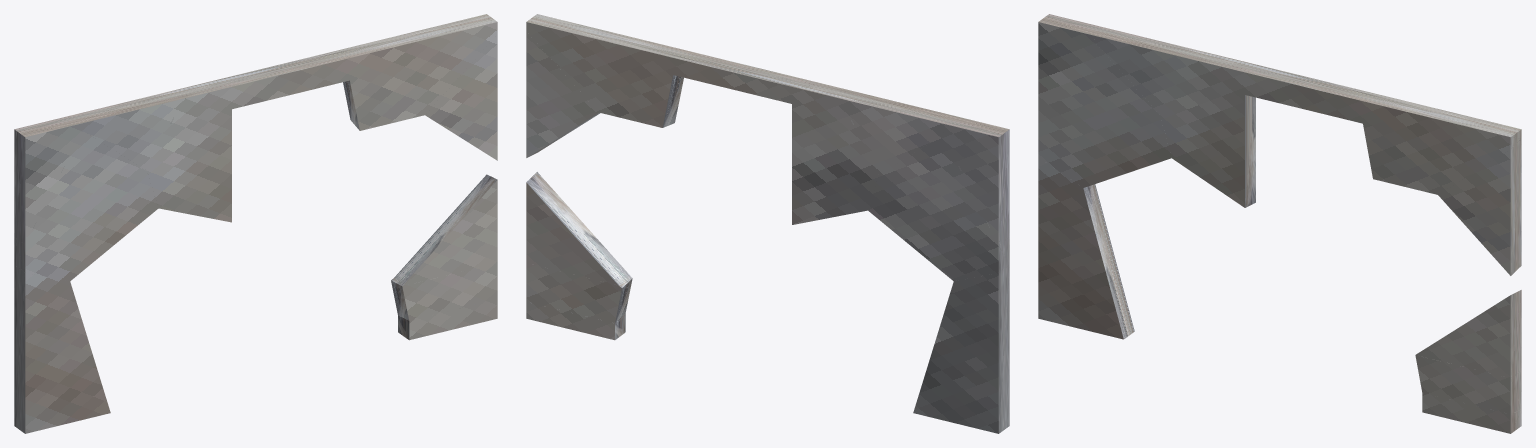
Rendered from Pared-Hoyo.gltf.
The picture shows the model from 3 angles, left to right: view 1: azimuth 30°, elevation 25°; view 2: azimuth 150°, elevation 25°; view 3: azimuth 330°, elevation 25°; orthographic projection.
Visible parts, largest first — view 1: Cube_cell, Cube_cell.012, Cube_cell.005, Cube_cell.013, Cube_cell.004, Cube_cell.014, Cube_cell.002, Cube_cell.006, Cube_cell.010, Cube_cell.001, Cube_cell.009; view 2: Cube_cell.012, Cube_cell, Cube_cell.005, Cube_cell.013, Cube_cell.004, Cube_cell.014, Cube_cell.006, Cube_cell.002, Cube_cell.001, Cube_cell.010, Cube_cell.009; view 3: Cube_cell.012, Cube_cell, Cube_cell.005, Cube_cell.013, Cube_cell.002, Cube_cell.004, Cube_cell.006, Cube_cell.010, Cube_cell.014, Cube_cell.001, Cube_cell.009.
Boxes of the visible parts, bbox=[...] form: Cube_cell: bbox=[14, 130, 158, 281]; Cube_cell.012: bbox=[14, 265, 110, 433]; Cube_cell.005: bbox=[340, 14, 497, 130]; Cube_cell.013: bbox=[147, 81, 231, 222]; Cube_cell.004: bbox=[394, 174, 497, 286]; Cube_cell.014: bbox=[14, 116, 82, 243]; Cube_cell.002: bbox=[425, 34, 497, 160]; Cube_cell.006: bbox=[67, 90, 183, 170]; Cube_cell.010: bbox=[211, 50, 349, 109]; Cube_cell.001: bbox=[391, 263, 497, 320]; Cube_cell.009: bbox=[398, 299, 497, 340]; Cube_cell.012: bbox=[913, 265, 1009, 433]; Cube_cell: bbox=[868, 135, 1009, 281]; Cube_cell.005: bbox=[526, 14, 684, 127]; Cube_cell.013: bbox=[792, 82, 878, 224]; Cube_cell.004: bbox=[526, 172, 632, 285]; Cube_cell.014: bbox=[943, 116, 1009, 245]; Cube_cell.006: bbox=[840, 90, 953, 174]; Cube_cell.002: bbox=[526, 32, 600, 157]; Cube_cell.001: bbox=[526, 263, 632, 323]; Cube_cell.010: bbox=[673, 50, 815, 103]; Cube_cell.009: bbox=[526, 302, 625, 340]; Cube_cell.012: bbox=[1038, 158, 1134, 339]; Cube_cell: bbox=[1038, 43, 1171, 187]; Cube_cell.005: bbox=[1363, 93, 1521, 194]; Cube_cell.013: bbox=[1160, 52, 1255, 207]; Cube_cell.002: bbox=[1438, 139, 1521, 275]; Cube_cell.004: bbox=[1416, 290, 1521, 378]; Cube_cell.006: bbox=[1093, 27, 1206, 114]; Cube_cell.010: bbox=[1232, 62, 1374, 123]; Cube_cell.014: bbox=[1038, 14, 1101, 128]; Cube_cell.001: bbox=[1415, 355, 1521, 414]; Cube_cell.009: bbox=[1422, 393, 1521, 433].
Bounding box in the file's own units: 50 × 30 × 2.
Materials: 1 (1 with a texture image).
